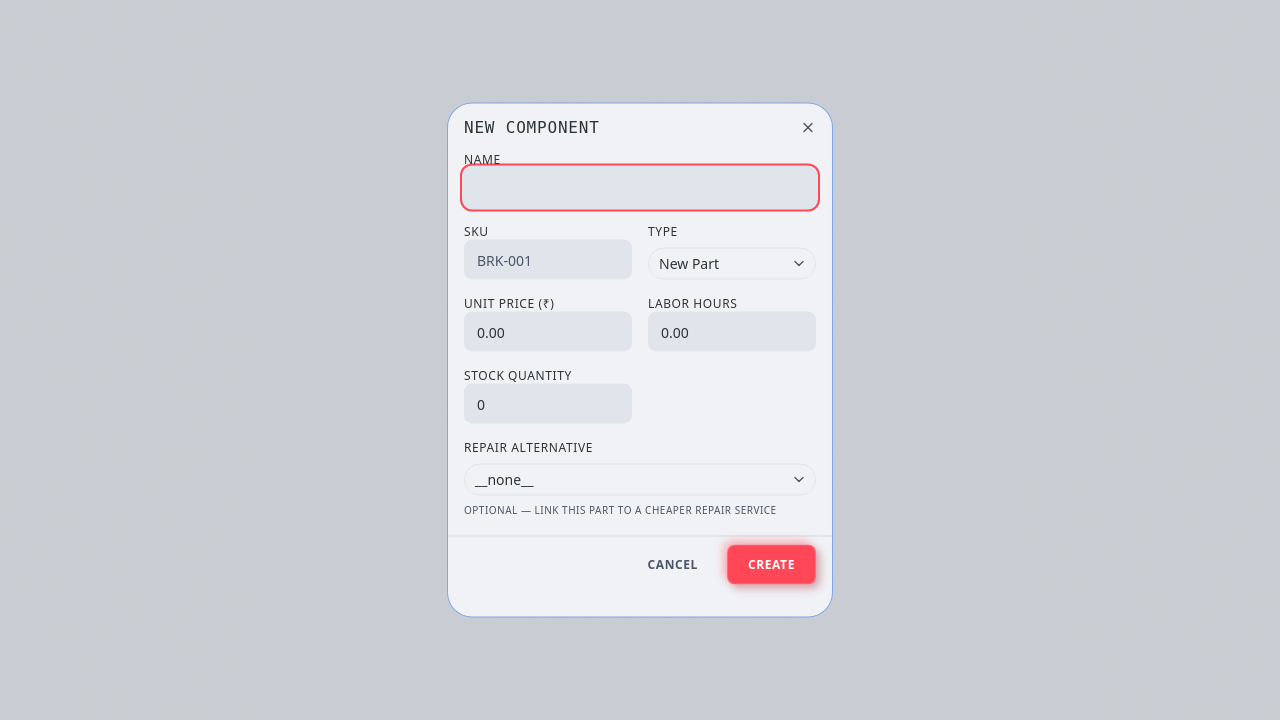
Test: ComponentForm validation › rejects SKU containing invalid characters
Type "bad sku!" into the field labelled "SKU" at (548, 260), box x1=464 y1=240 x2=632 y2=280
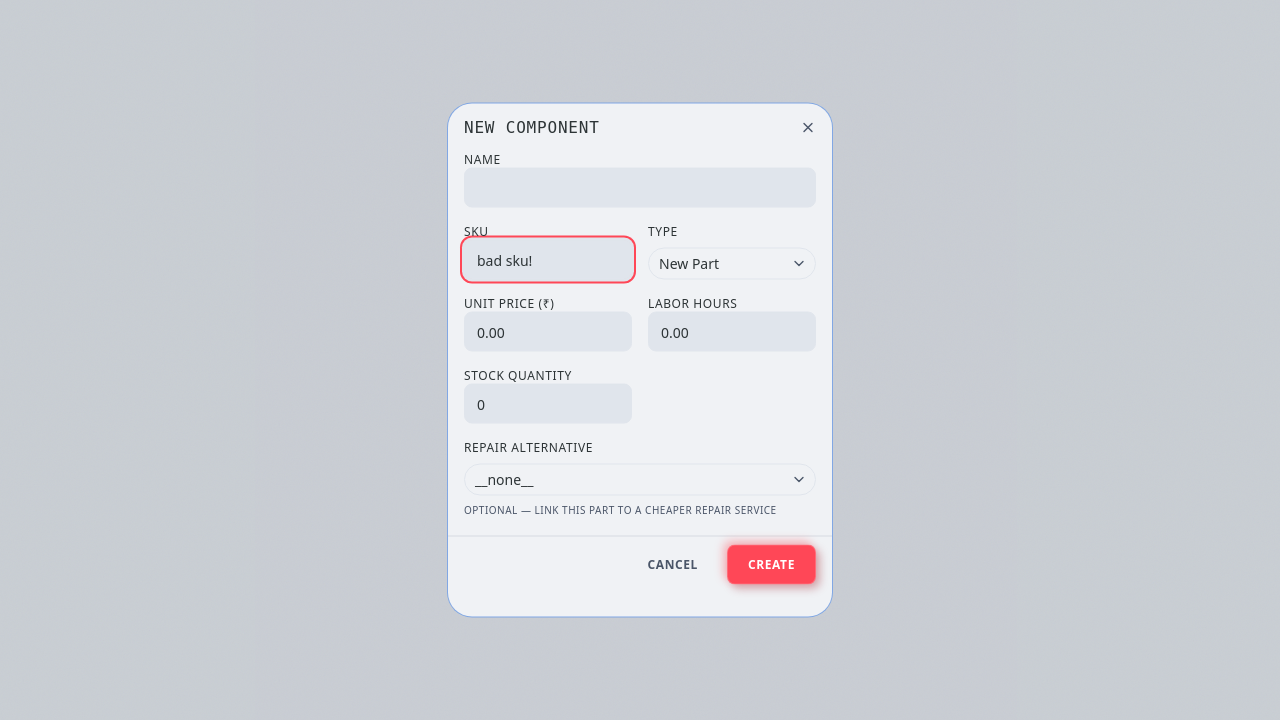
Click the button "Create" at (772, 564), box x1=727 y1=544 x2=816 y2=584
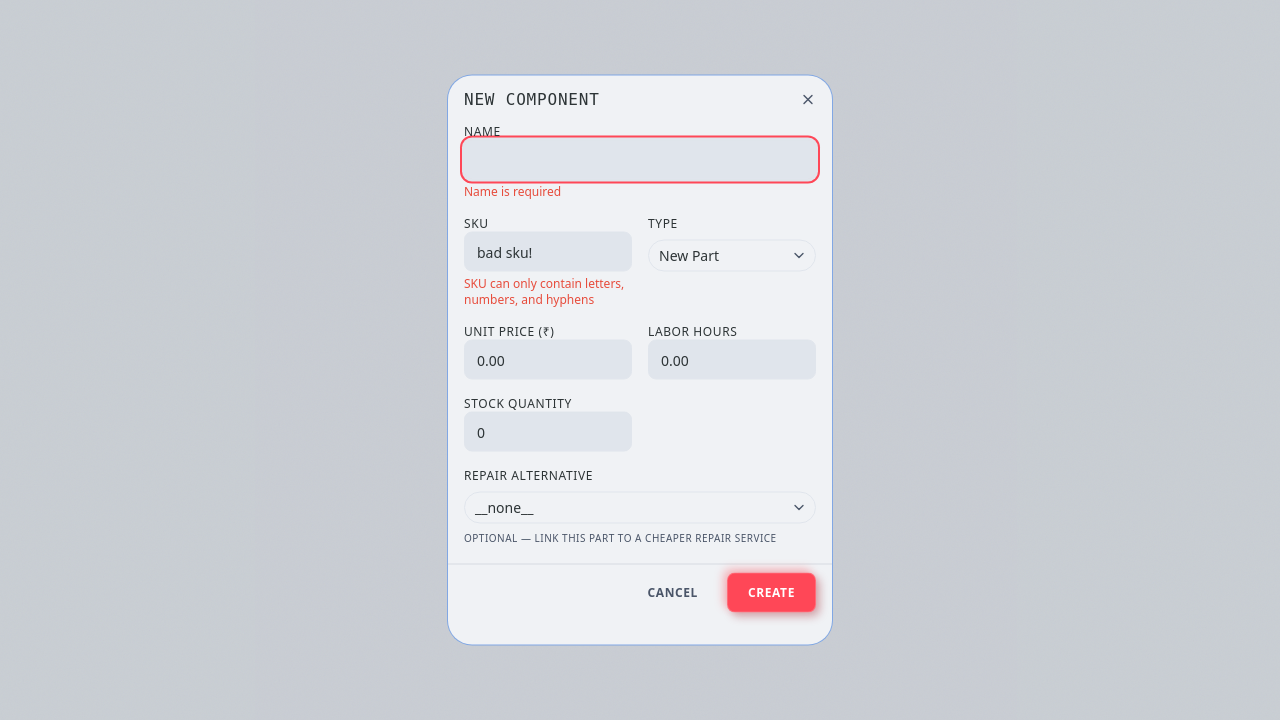
Expected: the text "SKU can only contain letters, numbers, and hyphens" is shown, x1=464 y1=276 x2=632 y2=308
